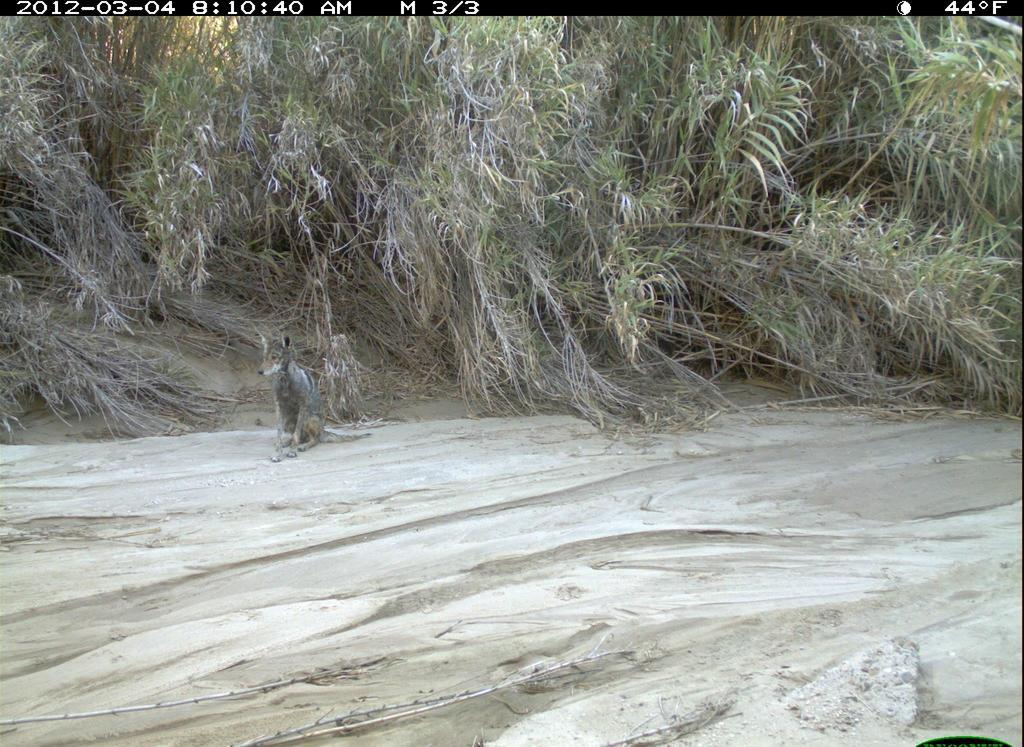coyote: (250, 319, 374, 469)
